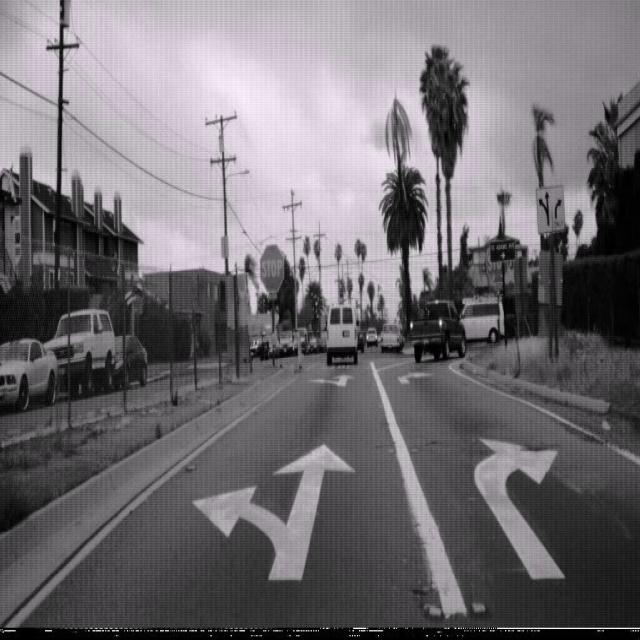stop_sign: (259, 242, 284, 294)
